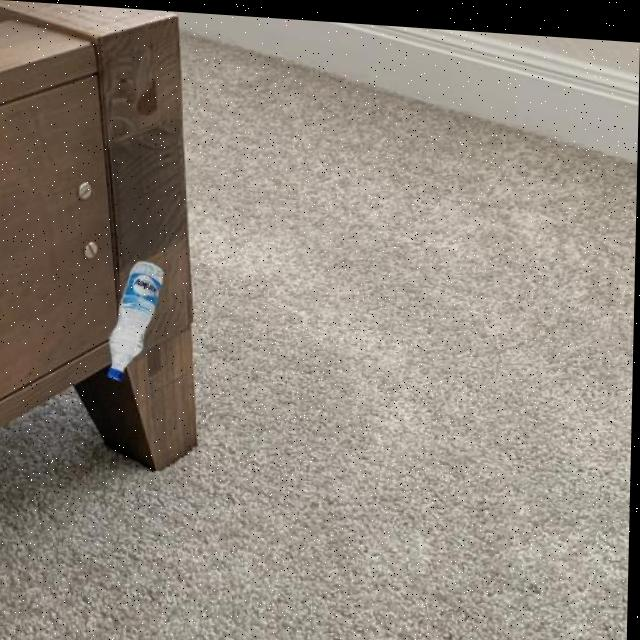bottle: (105, 254, 166, 382)
